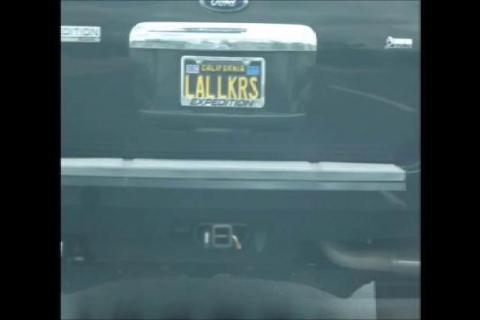LicensePlate: (179, 53, 269, 110)
